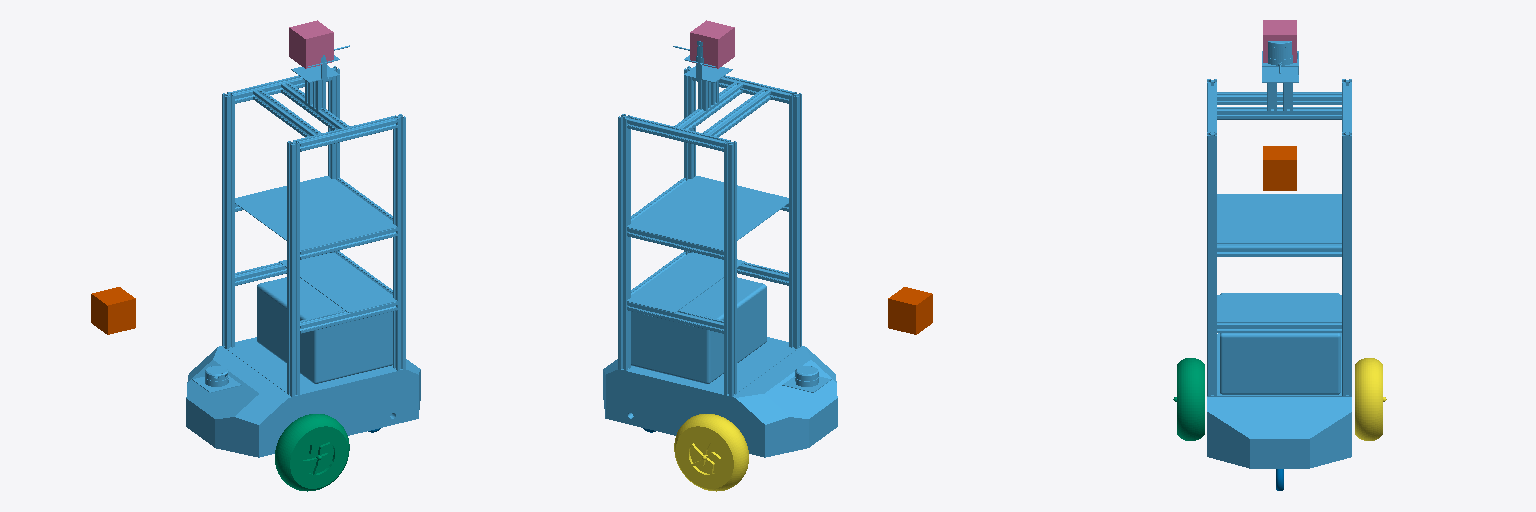
The robot description file, URDF, robot "autolabor_description":
<?xml version="1.0"?>
<robot name="autolabor_description">
  <joint name="dummy_joint" type="fixed">
    <parent link="base_link"/>
    <child link="body"/>
    <origin xyz="0 0 0.124" rpy="0 0 0"/>
  </joint>
  <joint name="cam_joint" type="fixed">
    <parent link="body"/>
    <child link="camera"/>
    <origin xyz="-0.7 0 0.5" rpy="0 1.570796327 0"/>
  </joint>
  <joint name="ray_joint" type="fixed">
    <parent link="body"/>
    <child link="ray"/>
    <origin xyz="0 0 1.236" rpy="0 0 0"/>
  </joint>
  <joint name="fljoint" type="continuous">
    <parent link="body"/>
    <child link="flw"/>
    <origin rpy="0 0 0" xyz="-0.15 -0.275 0"/>
    <axis xyz="0 -1 0"/>
  </joint>
  <joint name="frjoint" type="continuous">
    <parent link="body"/>
    <child link="frw"/>
    <origin rpy="0 0 0" xyz="-0.15 0.275 0"/>
    <axis xyz="0 -1 0"/>
  </joint>
  <joint name="cjoint" type="fixed">
    <parent link="body"/>
    <child link="caster"/>
    <origin rpy="0 0 0" xyz="0.221 0 -0.086"/>
  </joint>

  <link name="base_link"/>
  <link name="body">
    <inertial>
      <mass value="30"/>
      <origin rpy="0  0  0" xyz="-0.000006 -0.000009 0.176904"/>
      <inertia ixx="3.545e+12" ixy="-1e+9" ixz="-2.84e+11" iyy="4.553e+12" iyz="-3e+9" izz="3.081e+12"/>
    </inertial>
    <collision>
      <origin rpy="0  0  0" xyz="0 0 0"/>
      <geometry>
        <mesh filename="package://autolabor_description/meshes/3d_model_modify/body.stl"/>
      </geometry>
    </collision>
    <visual>
      <origin rpy="0  0  0" xyz="0 0 0"/>
      <geometry>
        <mesh filename="package://autolabor_description/meshes/3d_model_modify/body.stl"/>
      </geometry>
    </visual>
  </link>
  <link name="flw">
    <inertial>
      <mass value="10"/>
      <origin rpy="0  0  0" xyz="0.000000 0.011461 -0.000000"/>
      <inertia ixx="1.5e+10" ixy="0" ixz="0" iyy="2.6e+10" iyz="0" izz="1.5e+10"/>
    </inertial>
    <collision>
      <origin rpy="0  0  0" xyz="0  0  0"/>
      <geometry>
        <mesh filename="package://autolabor_description/meshes/3d_model_modify/flw.stl"/>
      </geometry>
    </collision>
    <visual>
      <origin rpy="0  0  0" xyz="0  0  0"/>
      <geometry>
        <mesh filename="package://autolabor_description/meshes/3d_model_modify/flw.stl"/>
      </geometry>
    </visual>
  </link>
  <link name="frw">
    <inertial>
      <mass value="10"/>
      <origin rpy="0  0  0" xyz="0 -0.011461 0"/>
      <inertia ixx="1.5e+10" ixy="0" ixz="0" iyy="2.6e+10" iyz="0" izz="1.5e+10"/>
    </inertial>
    <collision>
      <origin rpy="0  0  0" xyz="0  0  0"/>
      <geometry>
        <mesh filename="package://autolabor_description/meshes/3d_model_modify/frw.stl"/>
      </geometry>
    </collision>
    <visual>
      <origin rpy="0  0  0" xyz="0 0 0"/>
      <geometry>
        <mesh filename="package://autolabor_description/meshes/3d_model_modify/frw.stl"/>
      </geometry>
    </visual>
  </link>
  <link name="caster">
    <inertial>
      <mass value="5"/>
      <origin rpy="0  0  0" xyz="-0.000003 -0.000001 0.000003"/>
      <inertia ixx="0" ixy="0" ixz="0" iyy="0" iyz="0" izz="0"/>
    </inertial>
    <collision>
      <origin rpy="0  0  0" xyz="0  0  0"/>
      <geometry>
        <mesh filename="package://autolabor_description/meshes/3d_model_modify/caster.stl"/>
      </geometry>
    </collision>
    <visual>
      <origin rpy="0  0  0" xyz="0  0  0"/>
      <geometry>
        <mesh filename="package://autolabor_description/meshes/3d_model_modify/caster.stl"/>
      </geometry>
    </visual>
  </link>
  <link name="camera">
    <inertial>
      <mass value="0.001"/>
      <origin rpy="0 0 0" xyz="0 0 0"/>
      <inertia ixx="0.000166667" iyy="0.000166667" izz="0.000166667" ixy="0" ixz="0" iyz="0"/>
    </inertial>
    <collision>
      <origin rpy="0 0 0" xyz="0 0 0"/>
      <geometry>
        <box size="0.1 0.1 0.1"/>
      </geometry>
    </collision>
    <visual>
      <origin rpy="0 0 0" xyz="0 0 0"/>
      <geometry>
        <box size="0.1 0.1 0.1"/>
      </geometry>
    </visual>
  </link>
  <link name="ray">
    <inertial>
      <mass value="0.001"/>
      <origin rpy="0 0 0" xyz="0 0 0"/>
      <inertia ixx="0.000166667" iyy="0.000166667" izz="0.000166667" ixy="0" ixz="0" iyz="0"/>
    </inertial>
    <collision>
      <origin rpy="0 0 0" xyz="0 0 0"/>
      <geometry>
        <box size="0.1 0.1 0.1"/>
      </geometry>
    </collision>
    <visual>
      <origin rpy="0 0 0" xyz="0 0 0"/>
      <geometry>
        <box size="0.1 0.1 0.1"/>
      </geometry>
    </visual>
  </link>

  <transmission name="tran1">
    <type>transmission_interface/SimpleTransmission</type>
    <joint name="frjoint">
      <hardwareInterface>hardware_interface/VelocityJointInterface</hardwareInterface>
    </joint>
    <actuator name="motor1">
      <mechanicalReduction>1</mechanicalReduction>
    </actuator>
  </transmission>
  <transmission name="tran2">
    <type>transmission_interface/SimpleTransmission</type>
    <joint name="fljoint">
      <hardwareInterface>hardware_interface/VelocityJointInterface</hardwareInterface>
    </joint>
    <actuator name="motor2">
      <mechanicalReduction>1</mechanicalReduction>
    </actuator>
  </transmission>


  <gazebo reference="camera">
    <sensor type="camera" name="camera">
      <update_rate>60.0</update_rate>
      <camera>
        <horizontal_fov>1.5</horizontal_fov>
        <image>
          <width>1080</width>
          <height>720</height>
          <format>R8G8B8</format>
        </image>
        <clip>
          <near>0.1</near>
          <far>10</far>
        </clip>
      </camera>
      <plugin name="camera_controller" filename="libgazebo_ros_camera.so">
        <alwaysOn>true</alwaysOn>
        <cameraName>camera1</cameraName>
        <imageTopicName>image_raw</imageTopicName>
        <cameraInfoTopicName>camera_info</cameraInfoTopicName>
        <frameName>camera</frameName>
      </plugin>
    </sensor>
  </gazebo>
  <gazebo reference="ray">
    <sensor type="gpu_ray" name="ray">
      <update_rate>60.0</update_rate>
      <ray>
        <scan>
          <horizontal>
            <samples>1000</samples>
            <resolution>1</resolution>
            <min_angle>-3.1415</min_angle>
            <max_angle>3.1415</max_angle>
          </horizontal>
        </scan>
        <range>
          <min>0.1</min>
          <max>10</max>
          <resolution>0.01</resolution>
        </range>
      </ray>
      <plugin name="ray_controller" filename="libgazebo_ros_gpu_laser.so">
        <topicName>scan</topicName>
        <frameName>ray</frameName>
      </plugin>
    </sensor>
  </gazebo>
<!--
  <gazebo>
    <plugin name="differential_drive_controller" filename="libgazebo_ros_diff_drive.so">
      <alwaysOn>true</alwaysOn>
      <updateRate>100</updateRate>
      <leftJoint>fljoint</leftJoint>
      <rightJoint>frjoint</rightJoint>
      <wheelSeparation>0.55</wheelSeparation>
      <wheelDiameter>0.124</wheelDiameter>
      <torque>100</torque>
      <commandTopic>cmd_vel</commandTopic>
      <odometryTopic>odom</odometryTopic>
      <odometryFrame>odom</odometryFrame>
      <robotBaseFrame>base_link</robotBaseFrame>
      <rosDebugLevel>na</rosDebugLevel>
      <publishWheelTF>false</publishWheelTF>
      <publishOdomTF>true</publishOdomTF>
      <publishWheelJointState>false</publishWheelJointState>
      <wheelAcceleration>1</wheelAcceleration>
      <wheelTorque>50</wheelTorque>
      <publishTf>true</publishTf>
    </plugin>
  </gazebo>
-->
  <gazebo>
    <plugin name="gazebo_ros_control" filename="libgazebo_ros_control.so">
      <robotSimType>gazebo_ros_control/DefaultRobotHWSim</robotSimType>
    </plugin>
  </gazebo>

</robot>

--- What the picture shows (computed from the rendered views, not written in the file) ---
The picture shows the robot from 3 angles, left to right: view 1: azimuth 30°, elevation 25°; view 2: azimuth 150°, elevation 25°; view 3: azimuth 270°, elevation 25°; orthographic projection.
Model autolabor_description with 7 links and 6 joints (2 continuous, 4 fixed), rooted at base_link, posed all joints at 0.
Visible links, largest first — view 1: body, flw, camera, ray; view 2: body, frw, camera, ray; view 3: body, flw, frw, camera, ray.
Boxes of the visible links, left/top/right/bottom form: body: left=186, top=45, right=420, bottom=457; flw: left=275, top=414, right=349, bottom=491; camera: left=91, top=287, right=135, bottom=334; ray: left=289, top=20, right=333, bottom=68; body: left=603, top=41, right=837, bottom=457; frw: left=674, top=414, right=748, bottom=491; camera: left=888, top=287, right=932, bottom=334; ray: left=690, top=20, right=734, bottom=68; body: left=1207, top=41, right=1351, bottom=468; flw: left=1173, top=358, right=1204, bottom=440; frw: left=1355, top=358, right=1386, bottom=440; camera: left=1263, top=146, right=1296, bottom=190; ray: left=1263, top=20, right=1296, bottom=62.
Bounding box of the posed robot: 1.08 × 0.6314 × 1.41 m (x, y, z).
4 mesh visuals loaded from 4 distinct referenced files (4 binary STL).
